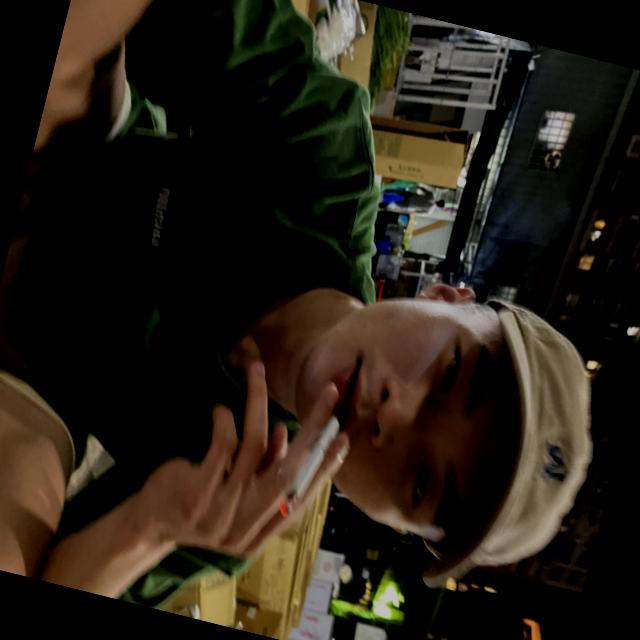cigarette: (248, 388, 356, 566)
